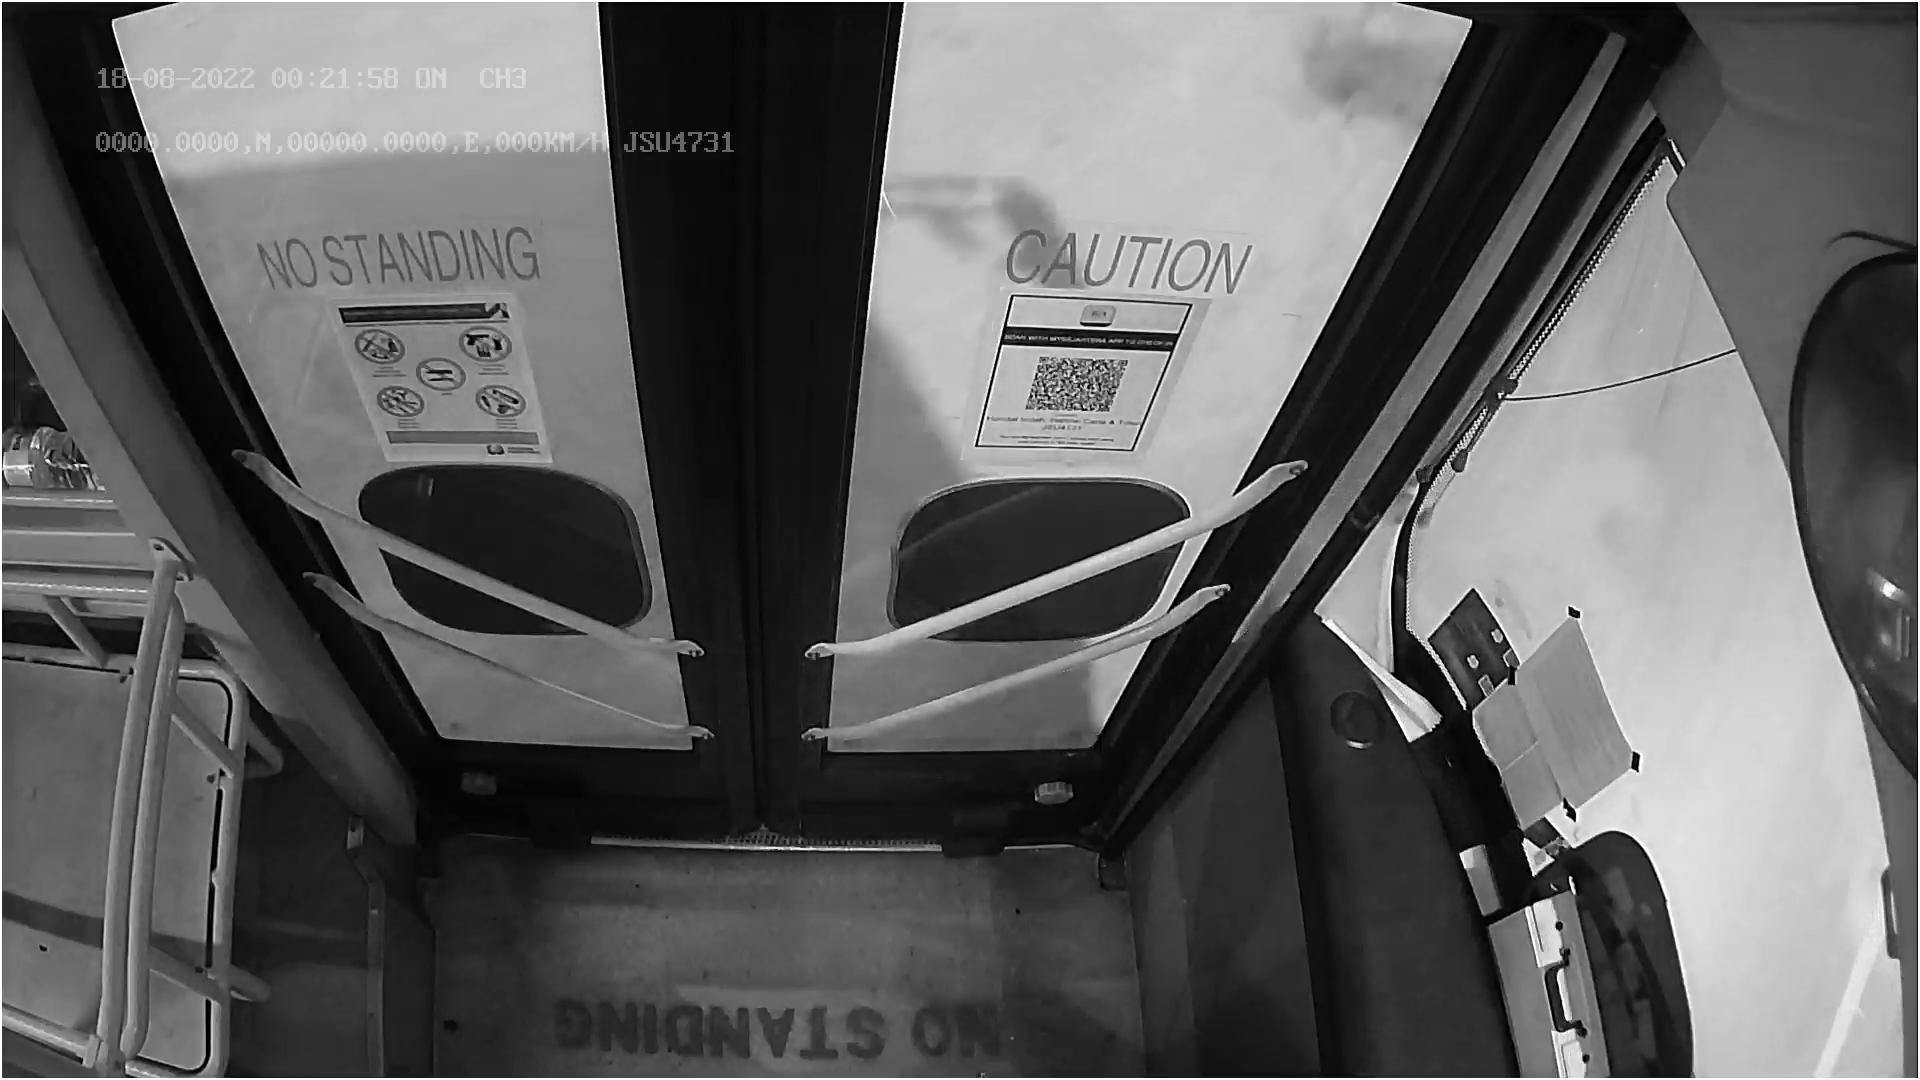close: (127, 0, 1441, 158)
